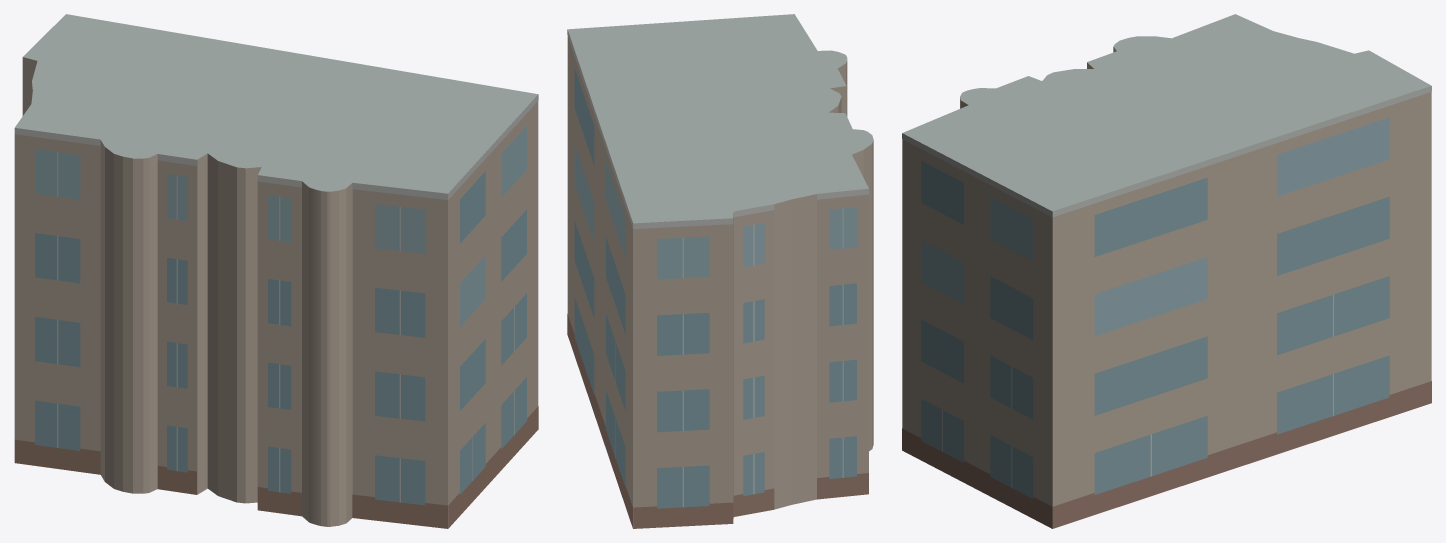
Rendered from survey-upis-32679550.glb.
3 views of the same model, side by side, from view 1: azimuth 30°, elevation 25°; view 2: azimuth 150°, elevation 25°; view 3: azimuth 270°, elevation 25° (orthographic). The views are drawn at different scales.
Parts seen in each view (by area): view 1: survey-upis-32679550.tmp; view 2: survey-upis-32679550.tmp; view 3: survey-upis-32679550.tmp.
Boxes of the visible parts, x1,y1,x2,y2 form: survey-upis-32679550.tmp: [14, 14, 538, 528]; survey-upis-32679550.tmp: [567, 14, 873, 528]; survey-upis-32679550.tmp: [902, 14, 1431, 528].
Bounding box in the file's own units: 17.09 × 12.8 × 19.36.
